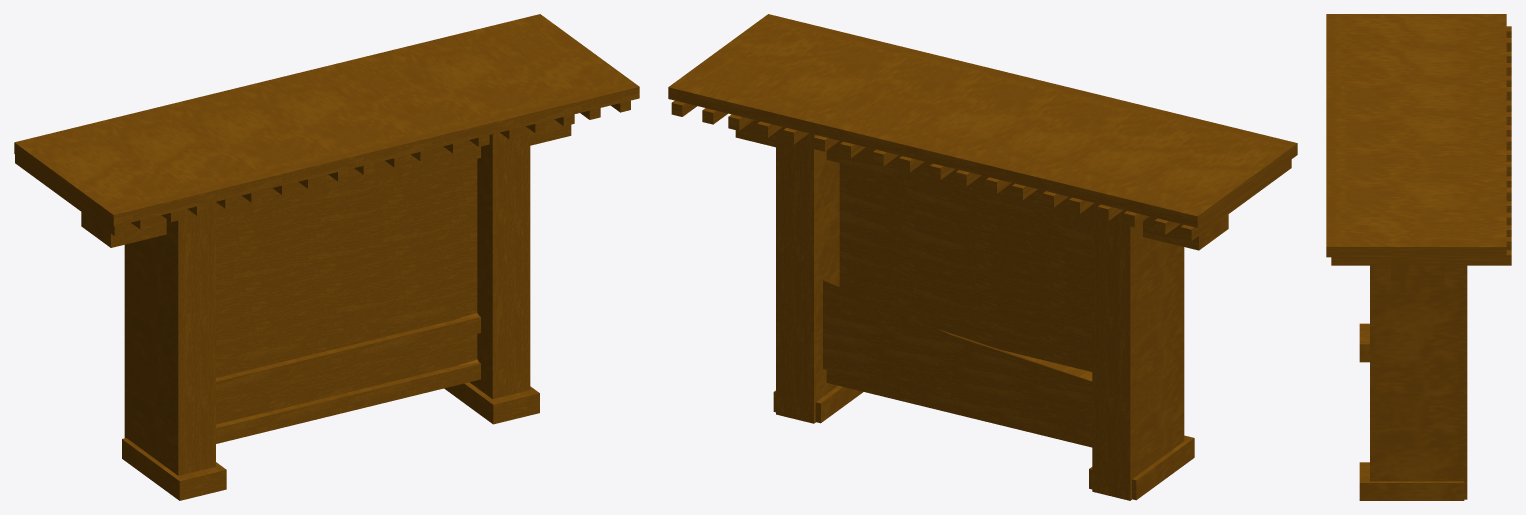
The model's file is select_wood.obj.
The picture shows the model from 3 angles, left to right: view 1: azimuth 30°, elevation 25°; view 2: azimuth 150°, elevation 25°; view 3: azimuth 270°, elevation 25°; orthographic projection. The views are drawn at different scales.
Visible parts, largest first — view 1: 立方体.019; view 2: 立方体.019; view 3: 立方体.019.
Boxes of the visible parts, x1=… form: 立方体.019: x1=14, y1=14, x2=639, y2=500; 立方体.019: x1=668, y1=14, x2=1297, y2=500; 立方体.019: x1=1326, y1=14, x2=1511, y2=500.
Size of the model in its own units: 286 by 166 by 95.99.
Materials: 1 (1 with a texture image).
